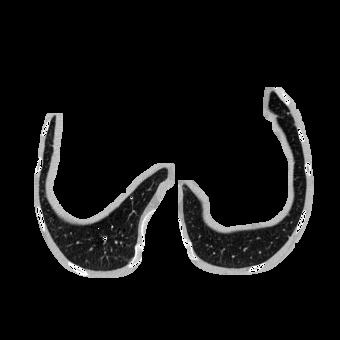PN: (102, 236, 106, 240)
